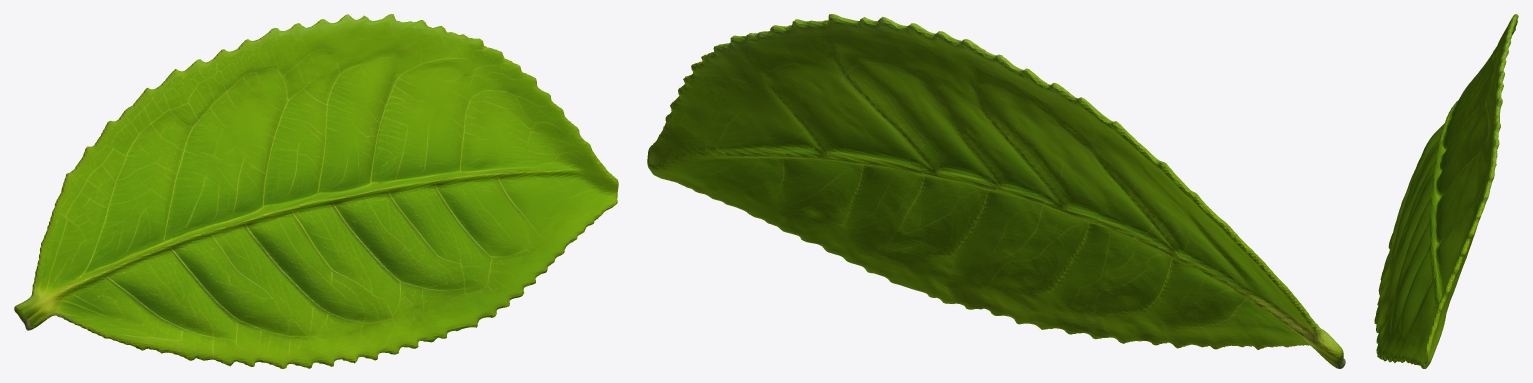
The model's file is daun_matcha.glb.
3 renders of one model, left to right at view 1: azimuth 30°, elevation 25°; view 2: azimuth 150°, elevation 25°; view 3: azimuth 270°, elevation 25°, orthographic. The views are drawn at different scales.
Parts seen in each view (by area): view 1: material; view 2: material; view 3: material.
Boxes of the visible parts, x1,y1,x2,y2 form: material: (14, 14, 618, 368); material: (647, 14, 1345, 368); material: (1374, 14, 1518, 368).
Bounding box in the file's own units: 1.18 × 0.5566 × 0.2751.
Materials: 1 (1 with a texture image).
